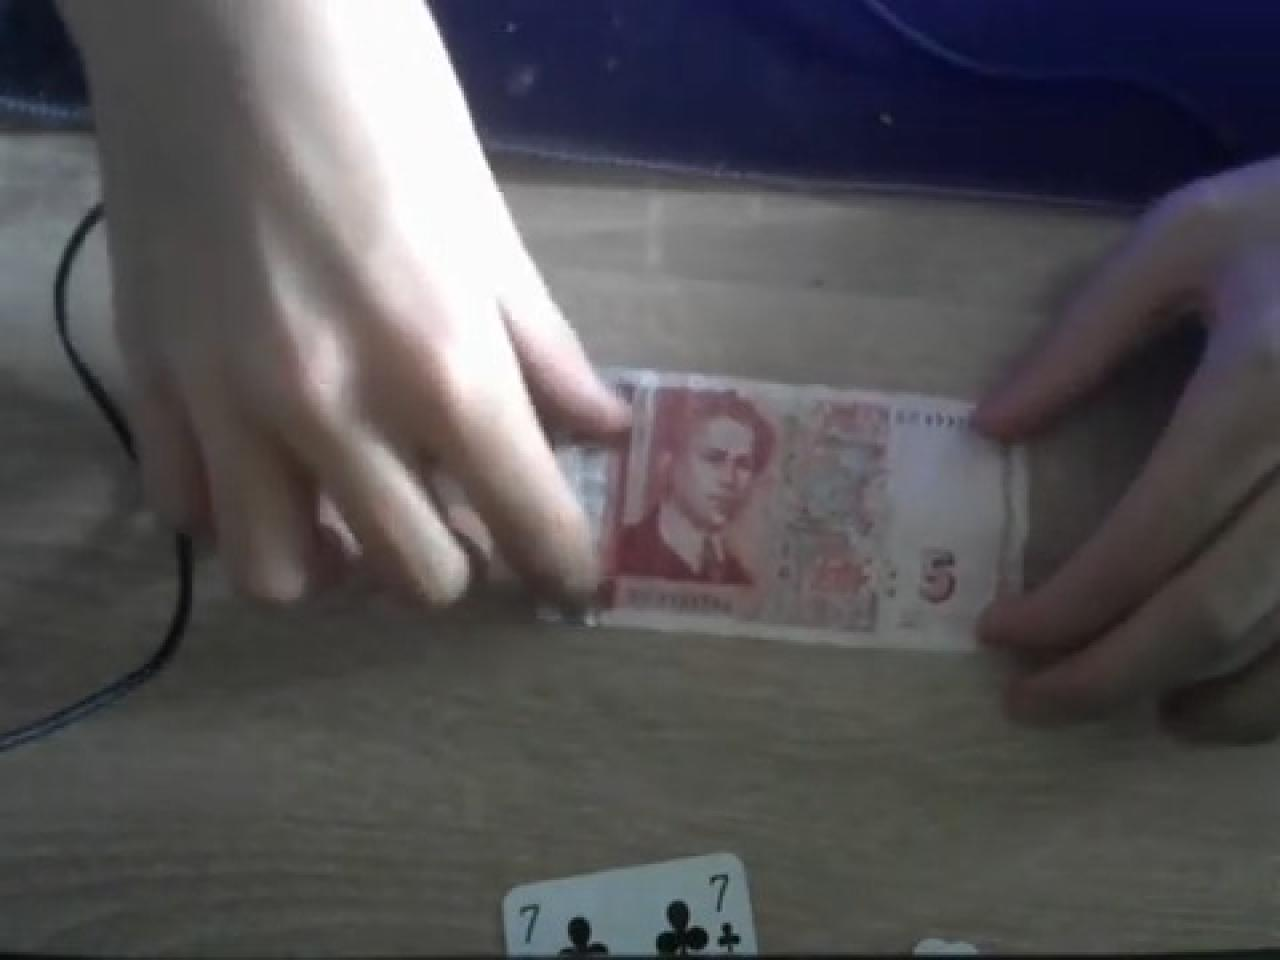5leva: (600, 373, 1032, 650)
